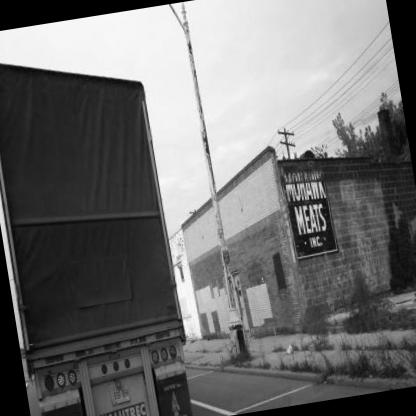truck: (1, 24, 196, 416)
